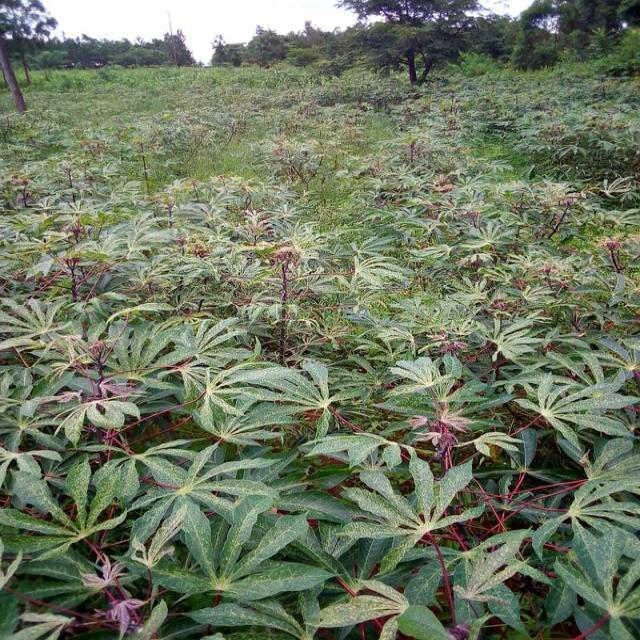cassava leaf: (2, 65, 639, 638)
